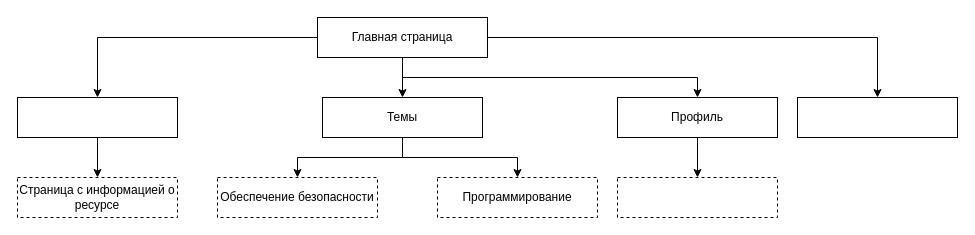
The diagram is 975 pixels wide and 235 high, and some of its shapes have lost their labels. The box of each missing label's shape, as (x1, y1, x2, y2) in pixels:
Авторизация: (796, 96, 958, 138)
О сайте: (16, 96, 178, 138)
Профиль пользователя: (616, 176, 778, 218)
